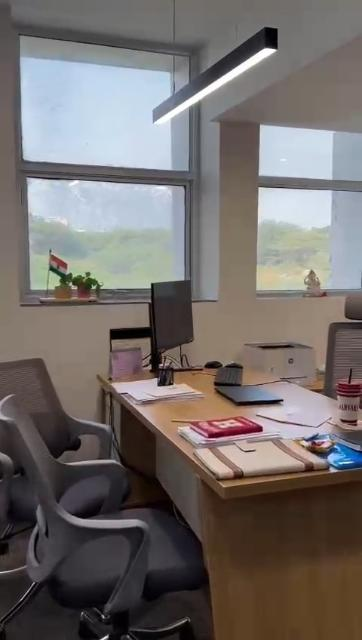object: (0, 456, 196, 640), (0, 345, 122, 605), (133, 274, 207, 386)
wall: (198, 114, 248, 366), (282, 14, 360, 124), (2, 48, 22, 354), (6, 314, 98, 354), (260, 307, 336, 331), (58, 360, 96, 402)
